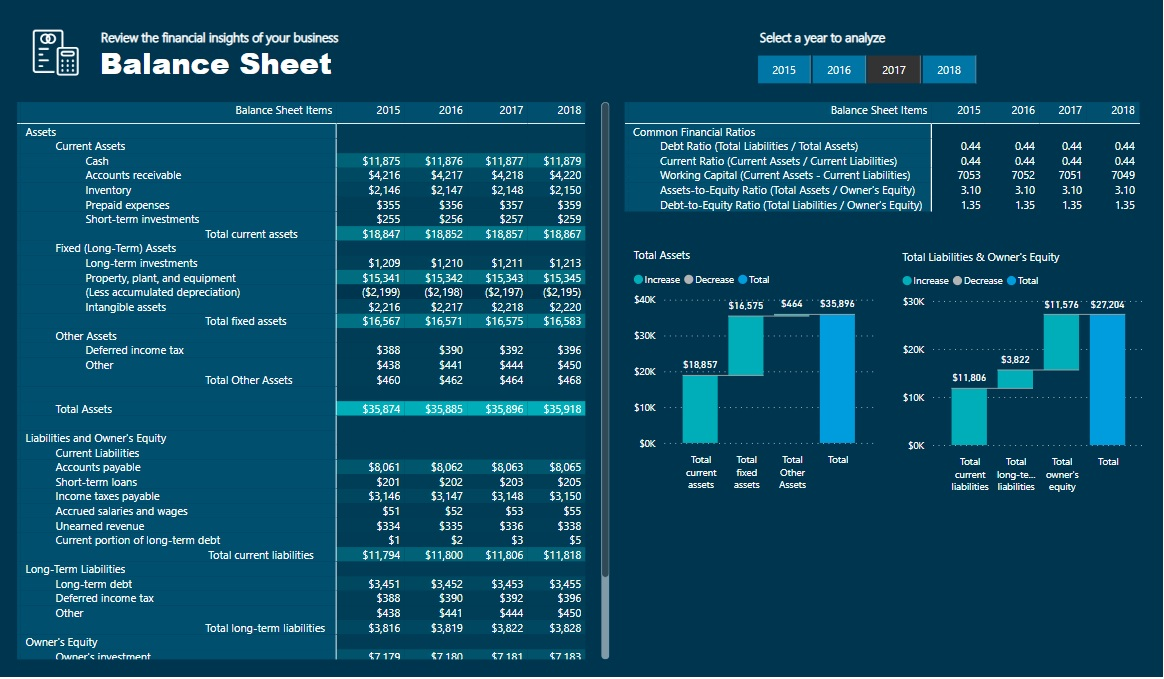

The page's visual inventory and layout, read from the dashboard file:
{"tool":"powerbi","page":{"name":"Balance Sheet","canvas":[1280,720],"ordinal":3},"visuals":[{"type":"textbox","box":[105.5,14.8,360.9,60.1],"z":0},{"type":"textbox","box":[107.6,0,291.5,34.4],"z":1000},{"type":"image","box":[18.3,1.1,88.2,60.2],"z":2000},{"type":"slicer","fields":{"Values":["Dates.Year"]},"box":[805.7,27.2,289.4,44.3],"z":3000},{"type":"textbox","box":[828.8,0,166.6,31],"z":4000},{"type":"pivotTable","fields":{"Rows":["Balance Sheet Template.Row Index","Balance Sheet Template.Balance Sheet Items"],"Values":["Balance Sheet Analysis.B/S Values"],"Columns":["Dates.Year"]},"box":[14.8,80.6,659.3,620.7],"z":7000},{"type":"pivotTable","fields":{"Rows":["Balance Sheet Template.Row Index","Balance Sheet Template.Balance Sheet Items"],"Values":["Balance Sheet Analysis.B/S Values"],"Columns":["Dates.Year"]},"box":[682,80.6,591.2,149.8],"z":8000},{"type":"waterfallChart","title":"Total Assets","fields":{"Category":["Balance Sheet Template.Summary Items"],"Y":["Balance Sheet Analysis.B/S Values"]},"box":[691.4,244.8,274.7,273.8],"z":9000},{"type":"waterfallChart","title":"Total Liabilities & Owner''s Equity","fields":{"Category":["Balance Sheet Template.Summary Items"],"Y":["Balance Sheet Analysis.B/S Values"]},"box":[985.7,246.7,276.6,274.7],"z":10000}]}

Visuals, with their boxes on the page's 1280x720 design canvas (x1, y1, x2, y2). These are canvas units, not pixel positions in the 1164x679 screenshot, which may show the page scaled, cropped or inside an application window:
textbox: [106,15,466,75]
textbox: [108,0,399,34]
image: [18,1,106,61]
slicer - Dates.Year: [806,27,1095,72]
textbox: [829,0,995,31]
pivotTable - Balance Sheet Template.Row Index x Balance Sheet Template.Balance Sheet Items: [15,81,674,701]
pivotTable - Balance Sheet Template.Row Index x Balance Sheet Template.Balance Sheet Items: [682,81,1273,230]
"Total Assets" waterfallChart: [691,245,966,519]
"Total Liabilities & Owner''s Equity" waterfallChart: [986,247,1262,521]
